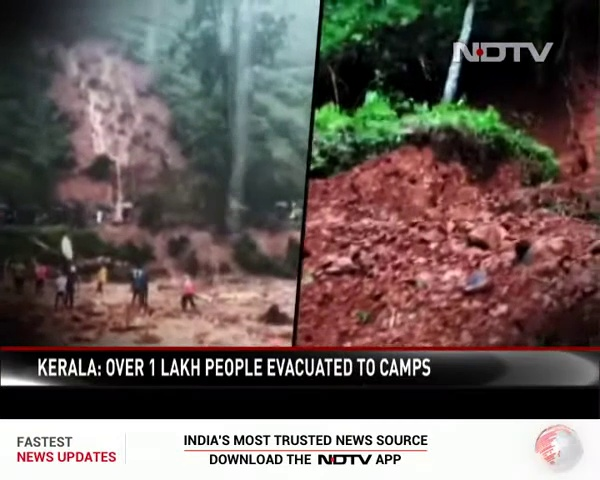person: (132, 267, 150, 309), (180, 270, 197, 313), (10, 257, 25, 294), (68, 272, 80, 307), (57, 270, 67, 307), (35, 266, 45, 297), (100, 269, 108, 302)
vehicle: (179, 277, 197, 309), (277, 202, 301, 221)
